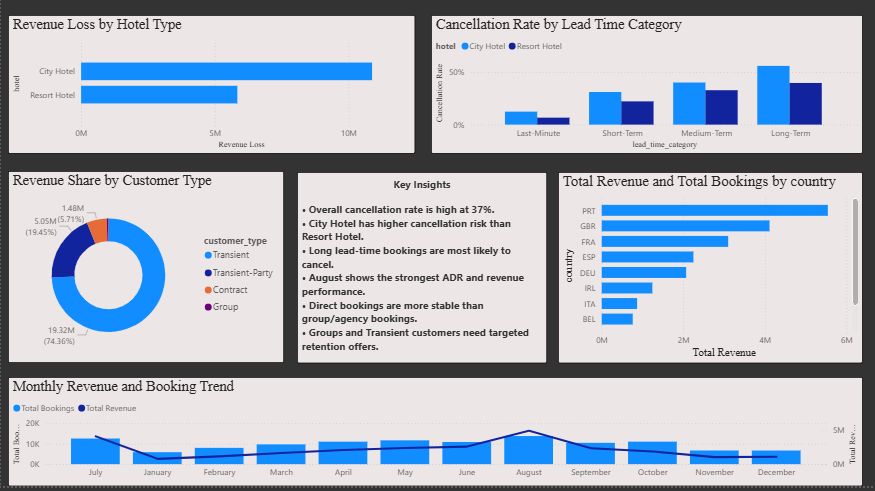

This screenshot's page, from the dashboard's own definition file:
{"tool":"powerbi","page":{"name":"Page 1","canvas":[1280,720],"ordinal":1},"visuals":[{"type":"clusteredBarChart","title":"Revenue Loss by Hotel Type","fields":{"Category":["cleaned_hotel_bookings.hotel"],"Y":["cleaned_hotel_bookings.Revenue Loss"]},"box":[10.2,30.7,595.6,203.4],"z":0},{"type":"donutChart","title":"Revenue Share by Customer Type","fields":{"Category":["cleaned_hotel_bookings.customer_type"],"Y":["cleaned_hotel_bookings.Total Revenue"]},"box":[10.2,259,403.9,281],"z":1000},{"type":"clusteredColumnChart","title":"Cancellation Rate by Lead Time Category","fields":{"Category":["cleaned_hotel_bookings.lead_time_category"],"Y":["cleaned_hotel_bookings.Cancellation Rate"],"Series":["cleaned_hotel_bookings.hotel"]},"box":[629.3,30.7,632.2,203.4],"z":2000},{"type":"clusteredBarChart","fields":{"Category":["cleaned_hotel_bookings.country"],"Y":["cleaned_hotel_bookings.Total Revenue"]},"box":[815.1,260.5,446.3,279.5],"z":3000},{"type":"lineClusteredColumnComboChart","title":"Monthly Revenue and Booking Trend","fields":{"Category":["cleaned_hotel_bookings.arrival_date_month"],"Y":["cleaned_hotel_bookings.Total Bookings"],"Y2":["cleaned_hotel_bookings.Total Revenue"]},"box":[10.2,560.5,1251.2,159.5],"z":4000},{"type":"textbox","box":[433.2,260.5,365.9,279.5],"z":5000}]}

Visuals, with their boxes in screenshot pixels (x1, y1, x2, y2), scaled from the page's 1280x720 canvas onto the 875x491 screenshot:
"Revenue Loss by Hotel Type" clusteredBarChart: pyautogui.locateOnScreen(7, 21, 414, 160)
"Revenue Share by Customer Type" donutChart: pyautogui.locateOnScreen(7, 177, 283, 368)
"Cancellation Rate by Lead Time Category" clusteredColumnChart: pyautogui.locateOnScreen(430, 21, 862, 160)
clusteredBarChart - cleaned_hotel_bookings.country x cleaned_hotel_bookings.Total Revenue: pyautogui.locateOnScreen(557, 178, 862, 368)
"Monthly Revenue and Booking Trend" lineClusteredColumnComboChart: pyautogui.locateOnScreen(7, 382, 862, 490)
textbox: pyautogui.locateOnScreen(296, 178, 546, 368)
